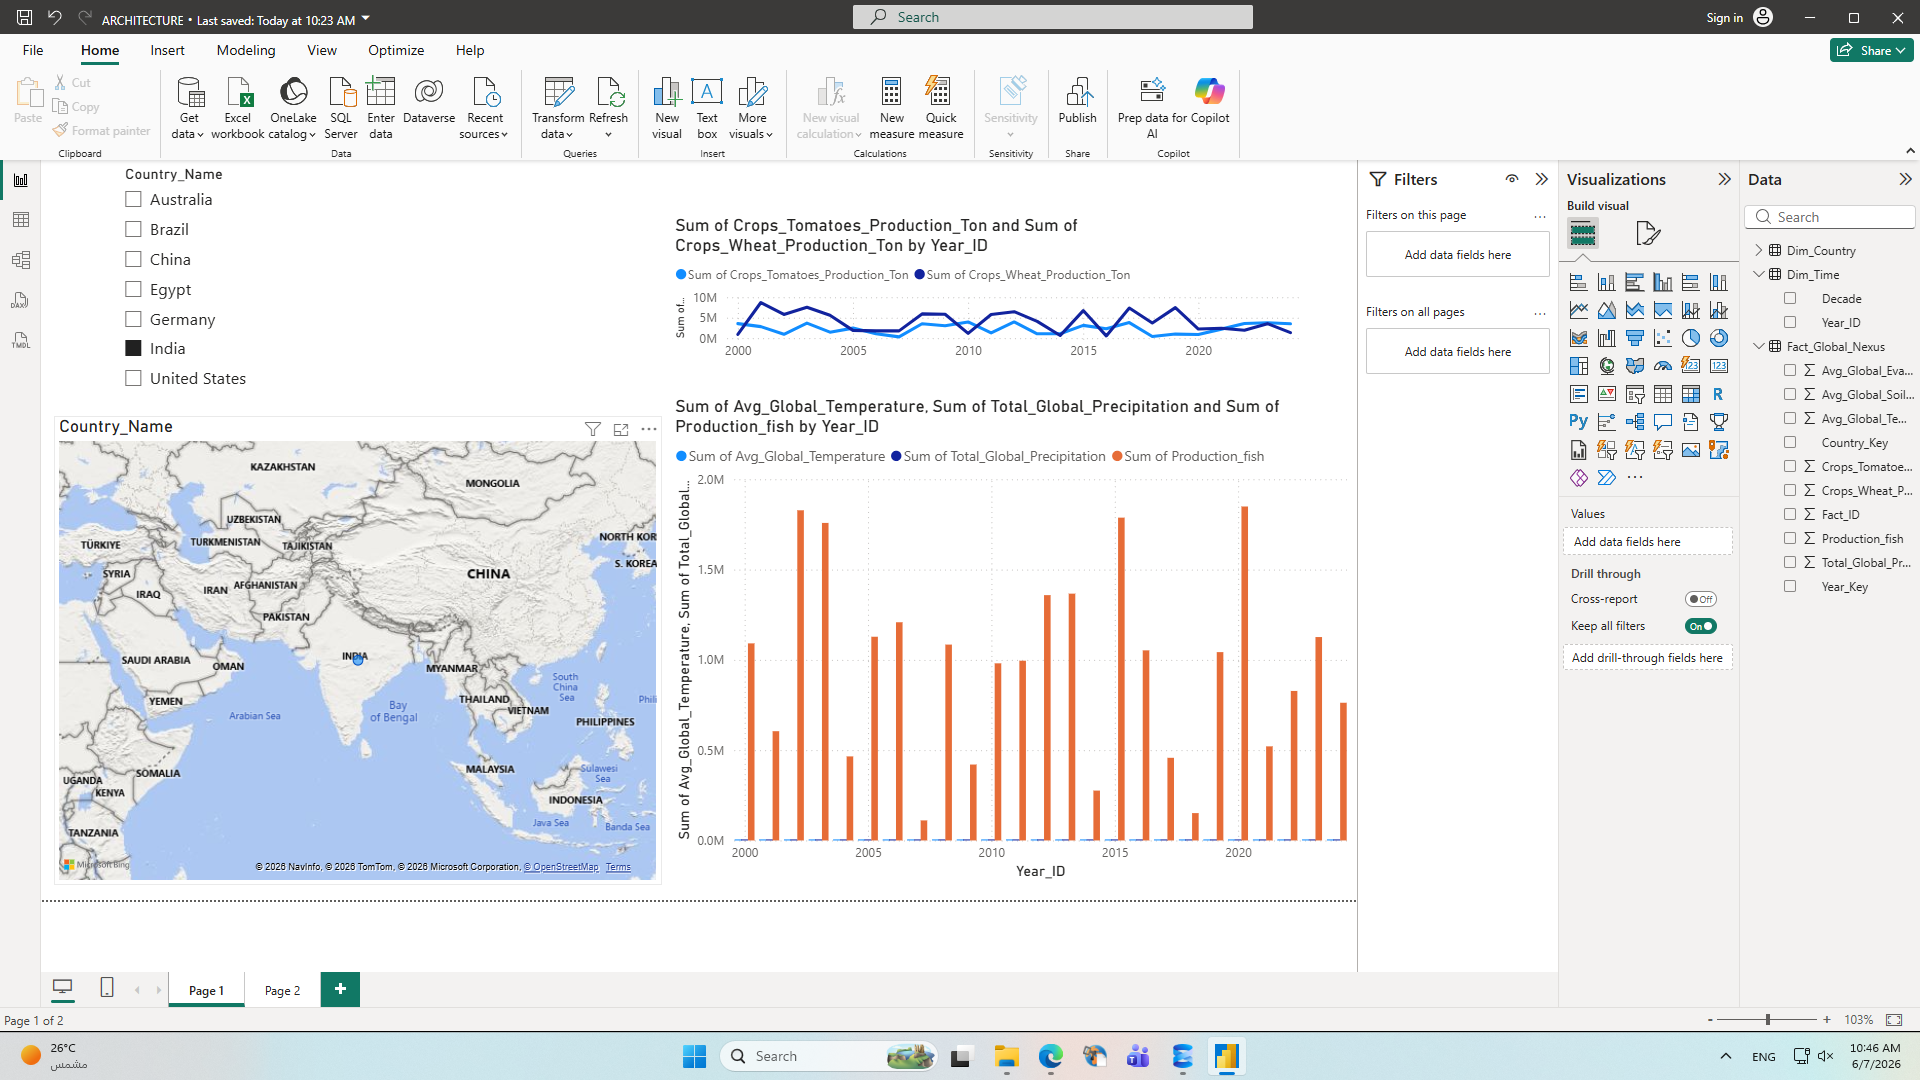

Layout of this report page (visuals, bound fields, positions):
{"tool":"powerbi","page":{"name":"Page 1","canvas":[1280,720],"ordinal":0},"visuals":[{"type":"slicer","fields":{"Values":["Dim_Country.Country_Name"]},"box":[69.1,0,280.1,280.1],"z":0},{"type":"lineChart","fields":{"Category":["Dim_Time.Year_ID"],"Y":["Sum(Fact_Global_Nexus.Crops_Tomatoes_Production_Ton)","Sum(Fact_Global_Nexus.Crops_Wheat_Production_Ton)"]},"box":[611.8,53.5,621.5,149.8],"z":1000},{"type":"map","fields":{"Category":["Dim_Country.Country_Name"]},"box":[12.6,249,591.4,456.2],"z":2000},{"type":"clusteredColumnChart","fields":{"Y":["Sum(Fact_Global_Nexus.Avg_Global_Temperature)","Sum(Fact_Global_Nexus.Total_Global_Precipitation)","Sum(Fact_Global_Nexus.Production_MT)"],"Category":["Dim_Time.Year_ID"]},"box":[611.8,229.5,668.2,475.6],"z":3000}]}

Visuals, with their boxes on the page's 1280x720 design canvas (x1, y1, x2, y2). These are canvas units, not pixel positions in the 1920x1080 screenshot, which may show the page scaled, cropped or inside an application window:
slicer - Dim_Country.Country_Name: x1=69 y1=0 x2=349 y2=280
lineChart - Dim_Time.Year_ID x Sum(Fact_Global_Nexus.Crops_Tomatoes_Production_Ton): x1=612 y1=54 x2=1233 y2=203
map - Dim_Country.Country_Name: x1=13 y1=249 x2=604 y2=705
clusteredColumnChart - Sum(Fact_Global_Nexus.Avg_Global_Temperature) x Sum(Fact_Global_Nexus.Total_Global_Precipitation): x1=612 y1=230 x2=1280 y2=705
